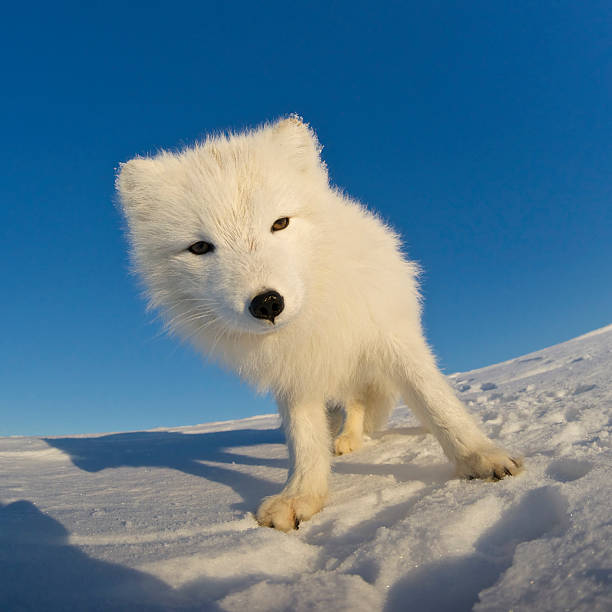arcticfox: (162, 165, 334, 352)
